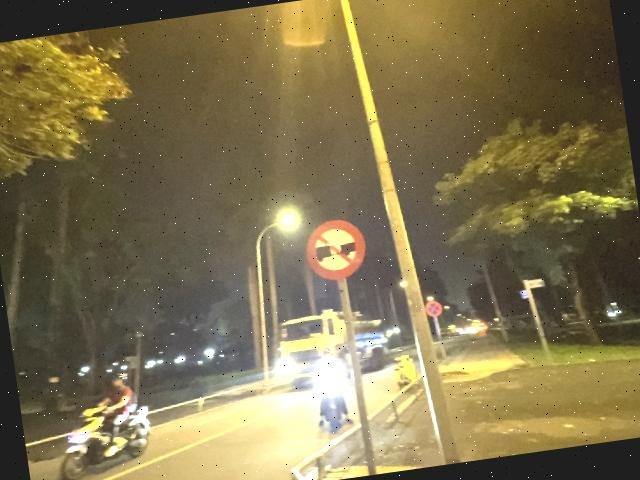cam-xe-somi-romooc: (302, 216, 370, 283)
